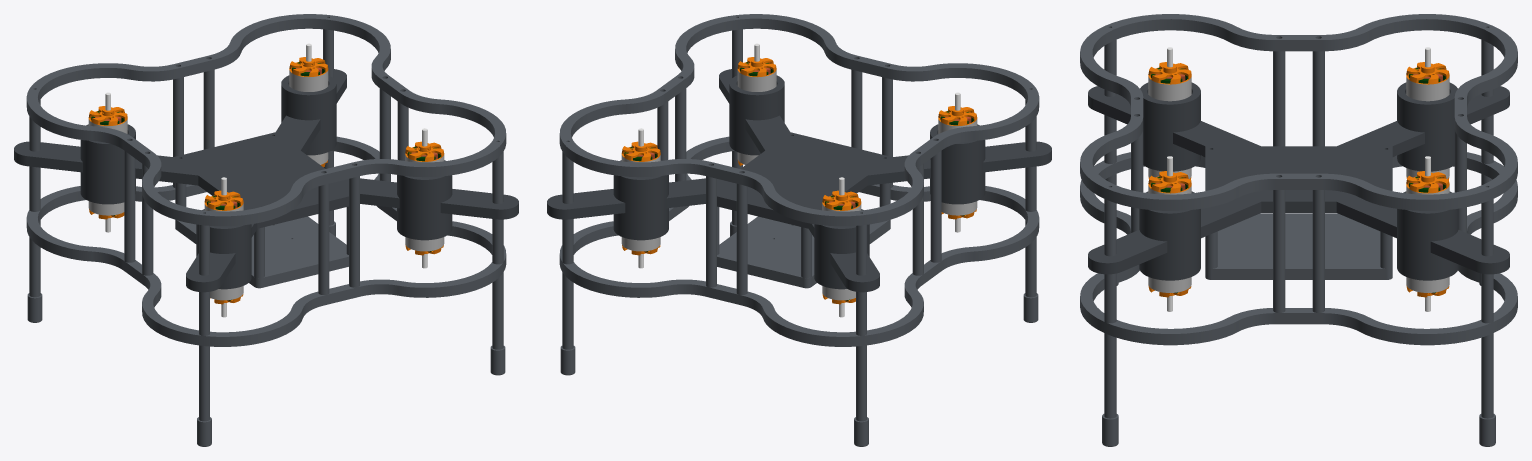
The model's file is drone_base_with_motors.dae.
3 views of the same model, side by side, from view 1: azimuth 30°, elevation 25°; view 2: azimuth 150°, elevation 25°; view 3: azimuth 270°, elevation 25° (orthographic). The views are drawn at different scales.
Visible parts, largest first — view 1: Part 1 (×20), MOTOR (×7); view 2: Part 1 (×20), MOTOR (×7); view 3: Part 1 (×20), MOTOR (×6).
Part boxes in pixels (bbox=[...]): Part 1 (×20): bbox=[14, 14, 518, 446]; MOTOR (×7): bbox=[88, 43, 444, 317]; Part 1 (×20): bbox=[547, 14, 1051, 446]; MOTOR (×7): bbox=[621, 43, 977, 317]; Part 1 (×20): bbox=[1080, 14, 1517, 446]; MOTOR (×6): bbox=[1148, 47, 1449, 311].
Size of the model in its own units: 0.3562 by 0.3547 by 0.2335.
